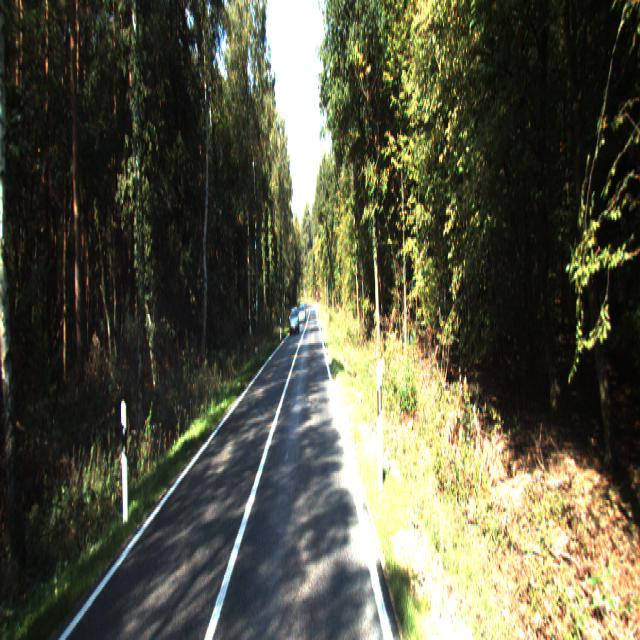Car: (289, 307, 300, 336)
